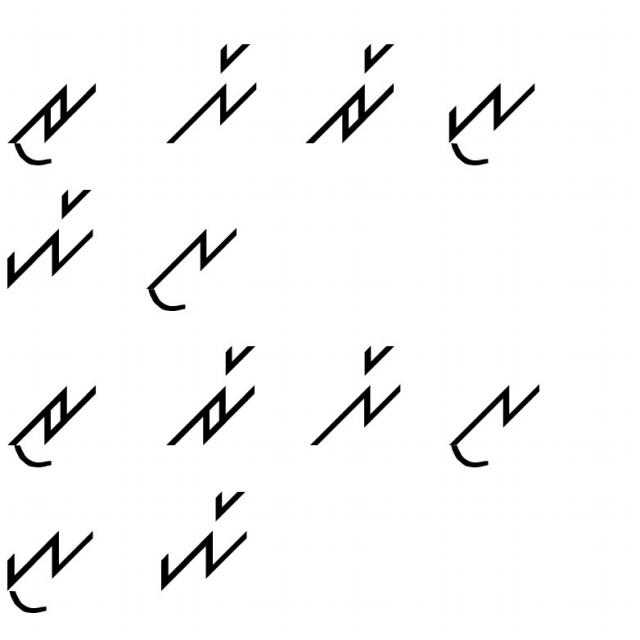lar: (305, 335, 410, 454), (163, 35, 261, 150)
law: (441, 372, 545, 475), (141, 209, 241, 316)
rar: (301, 37, 408, 153), (160, 337, 264, 454)
raw: (8, 371, 102, 478), (6, 73, 106, 169)
yar: (150, 484, 258, 596), (2, 186, 104, 297)
yaw: (435, 68, 541, 173), (5, 521, 102, 622)
